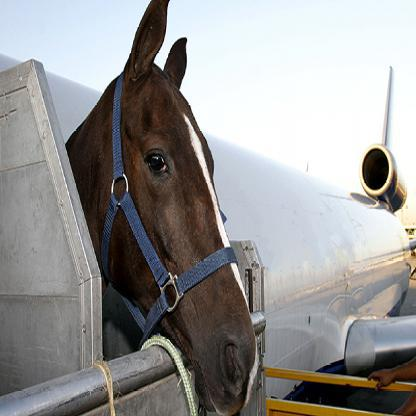CIV_Plane: (2, 45, 406, 406)
